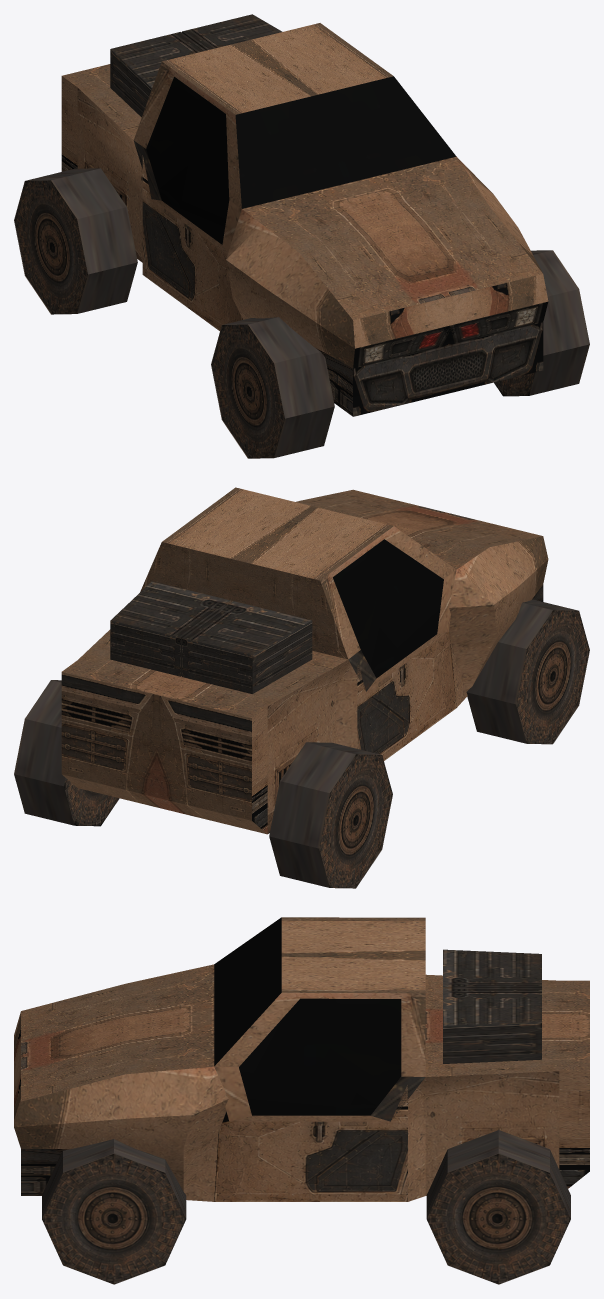
File: mla_vl_01.dae
3 renders of one model, top to bottom at view 1: azimuth 30°, elevation 25°; view 2: azimuth 150°, elevation 25°; view 3: azimuth 270°, elevation 25°, orthographic. The views are drawn at different scales.
Visible parts, largest first — view 1: vl_01; view 2: vl_01; view 3: vl_01.
Part boxes in pixels (<box>): vl_01: <box>14,14,589,458</box>; vl_01: <box>14,487,589,888</box>; vl_01: <box>14,917,589,1284</box>.
Size of the model in its own units: 4.98 by 8.34 by 4.11.
